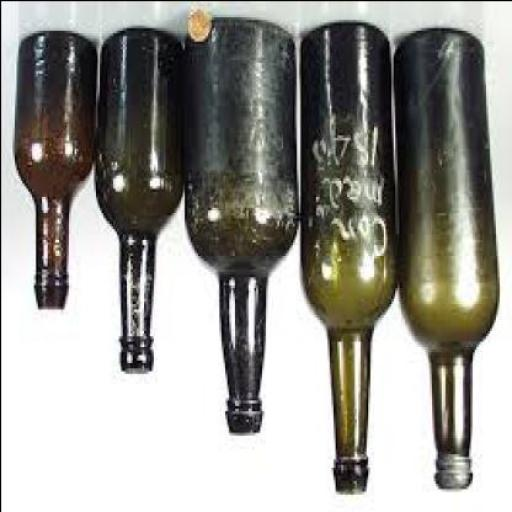glass: (394, 30, 500, 491), (185, 21, 297, 434), (304, 27, 398, 496), (97, 30, 185, 376), (16, 35, 100, 311)
metal: (434, 458, 474, 488)
